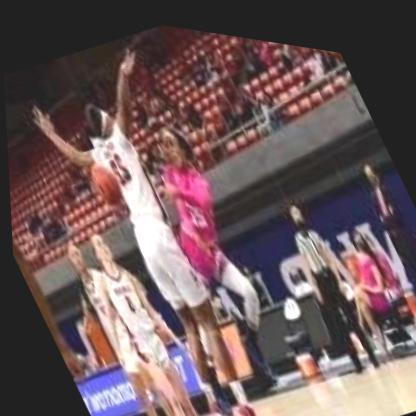basketball: (79, 150, 128, 208)
